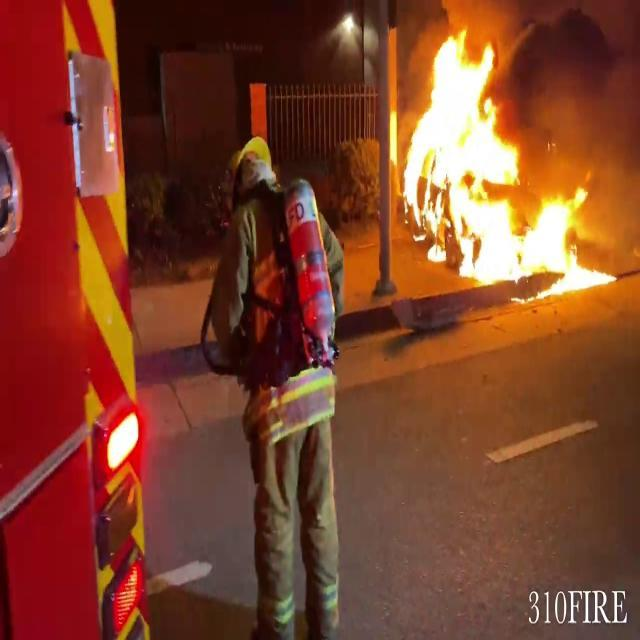Fire: (400, 23, 606, 292)
Smoke: (518, 2, 640, 220)
